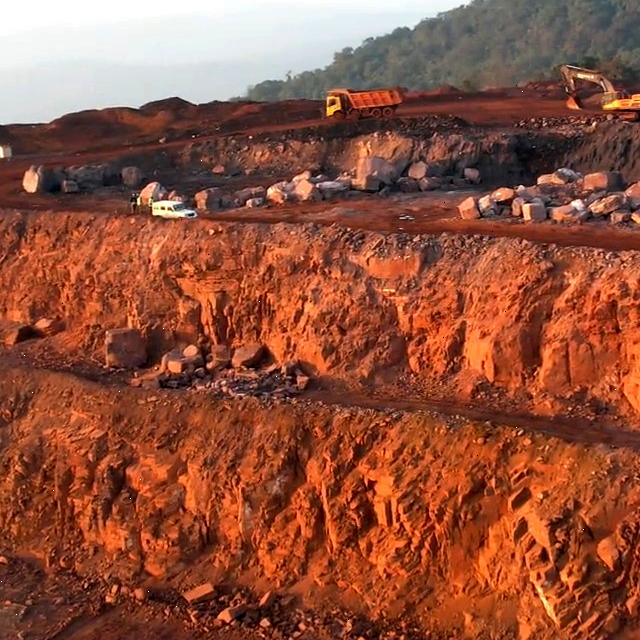Dumper truck: (324, 89, 397, 120)
Excavator: (597, 85, 640, 120)
car: (152, 197, 193, 220)
person: (124, 193, 137, 214), (135, 195, 145, 214)
